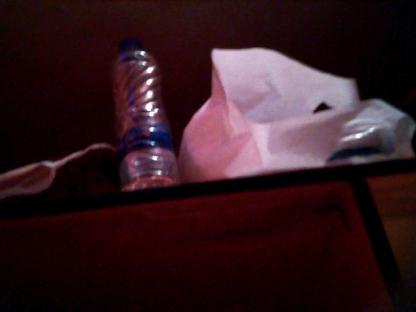Plastic Bottle: (111, 37, 181, 193)
